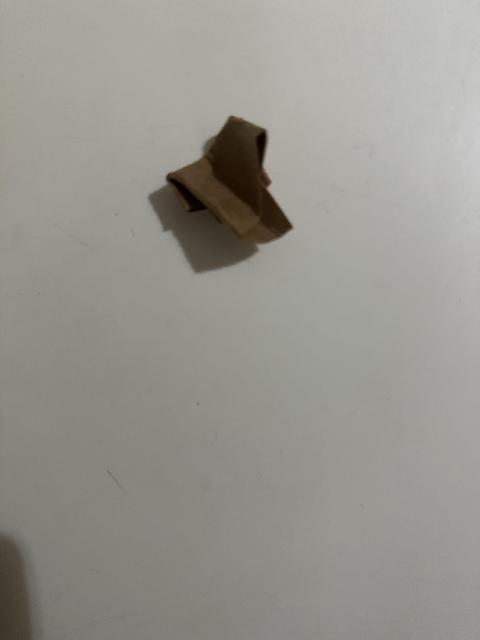Kagit: (149, 124, 324, 246)
